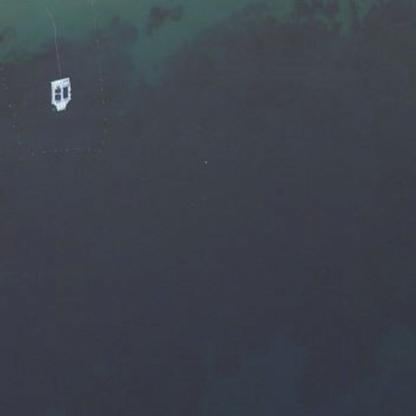ship: (29, 75, 58, 113)
